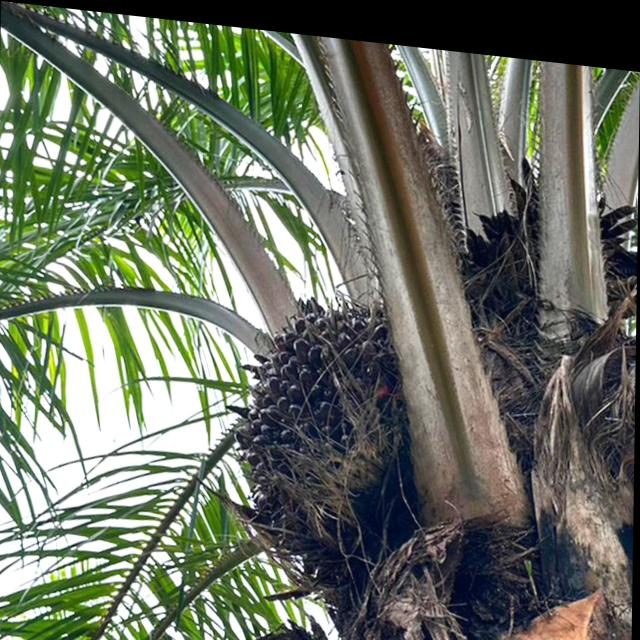ripe: (214, 268, 439, 596)
